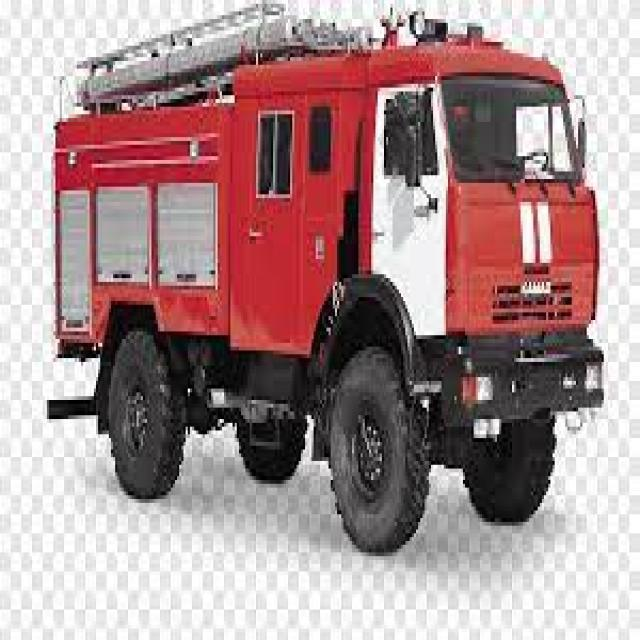emergency: (38, 26, 610, 534)
